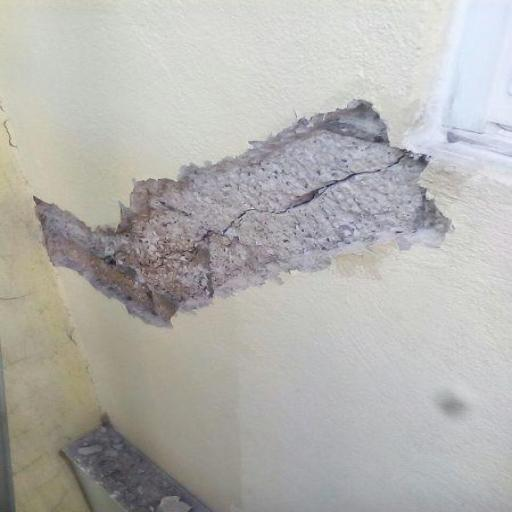spalling: (43, 108, 448, 328)
